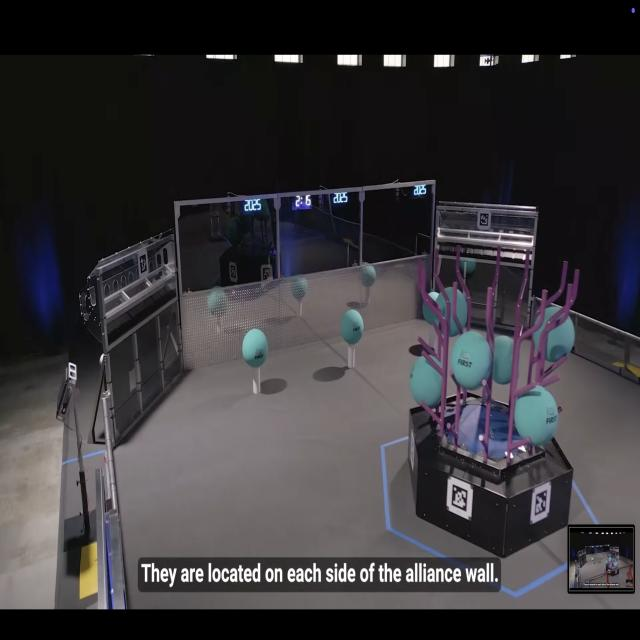algae: (514, 377, 559, 450), (535, 306, 575, 365), (453, 324, 489, 388), (410, 350, 447, 408), (436, 285, 466, 334), (491, 330, 516, 384), (241, 327, 271, 371), (337, 305, 367, 346), (422, 291, 442, 326)
coral: (251, 364, 265, 399), (346, 339, 360, 373)
